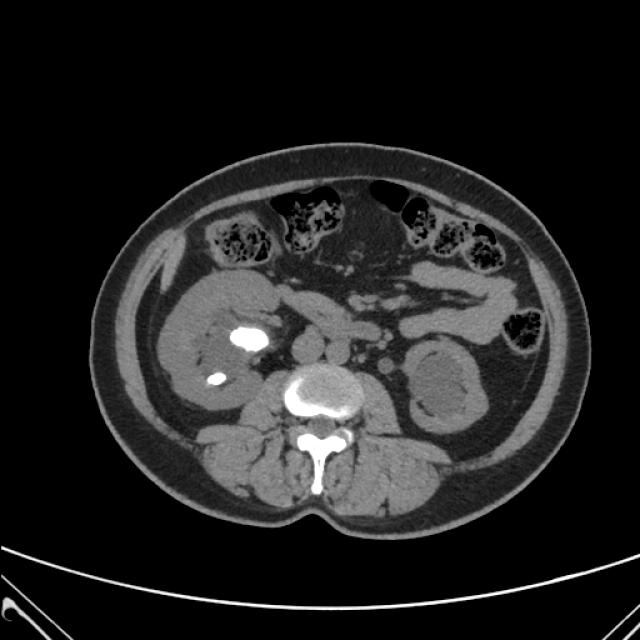kidney: (152, 266, 285, 412), (402, 336, 492, 438)
stone: (230, 322, 272, 356), (205, 366, 237, 388)
